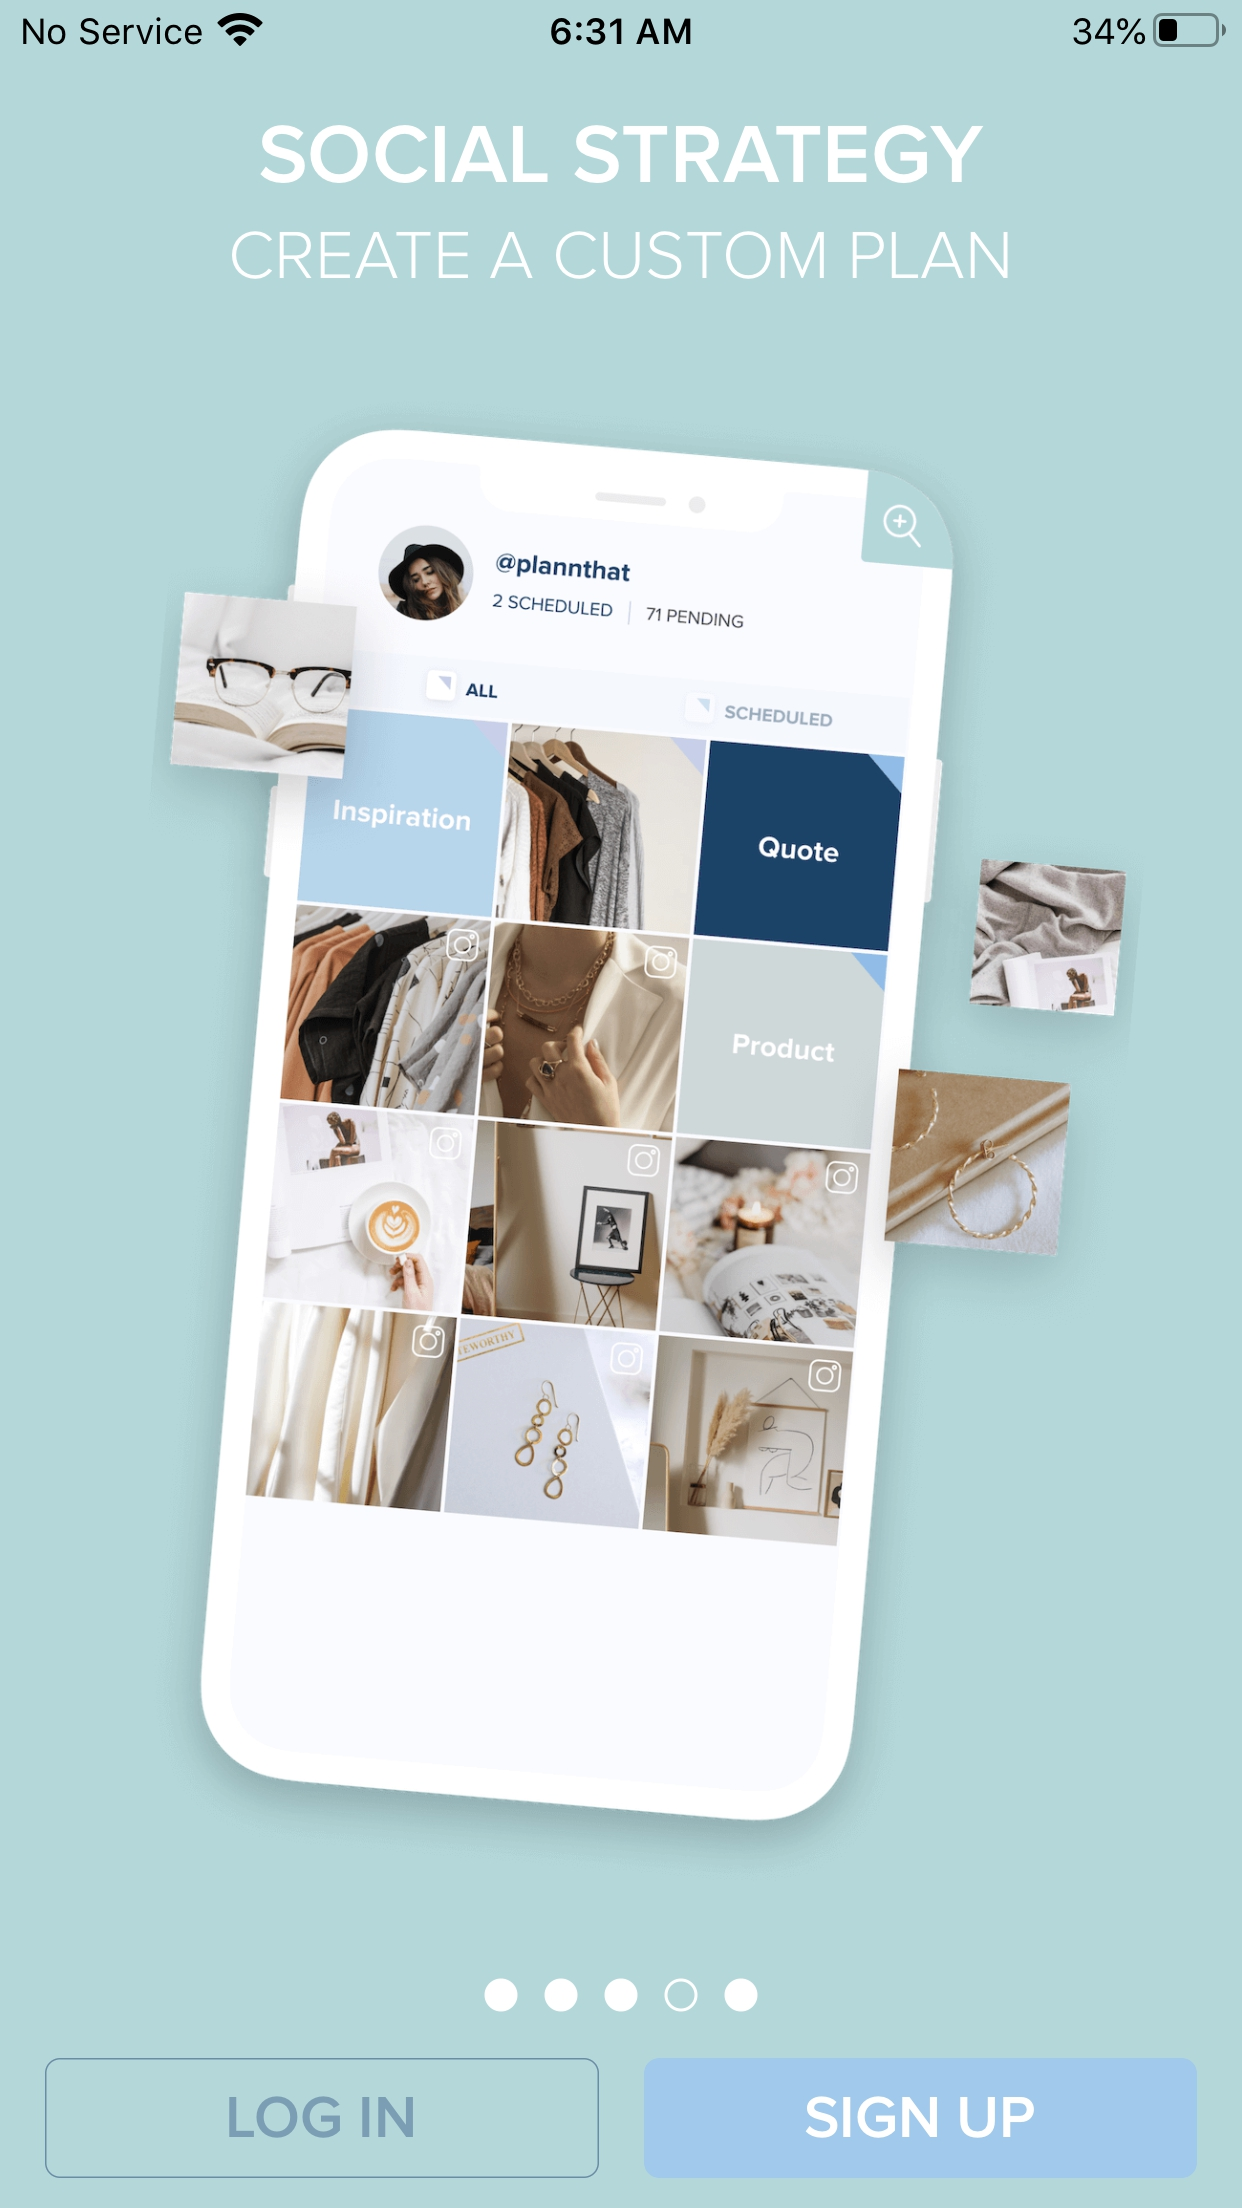BackgroundImage: (2, 2, 1242, 2208)
Image: (168, 429, 1127, 1821)
PageIndicator: (484, 1977, 758, 2012)
Text: (259, 126, 983, 183), (232, 232, 1008, 281)
TextButton: (45, 2058, 599, 2178), (645, 2058, 1197, 2178)
UpperTaskBar: (2, 2, 1242, 49)
